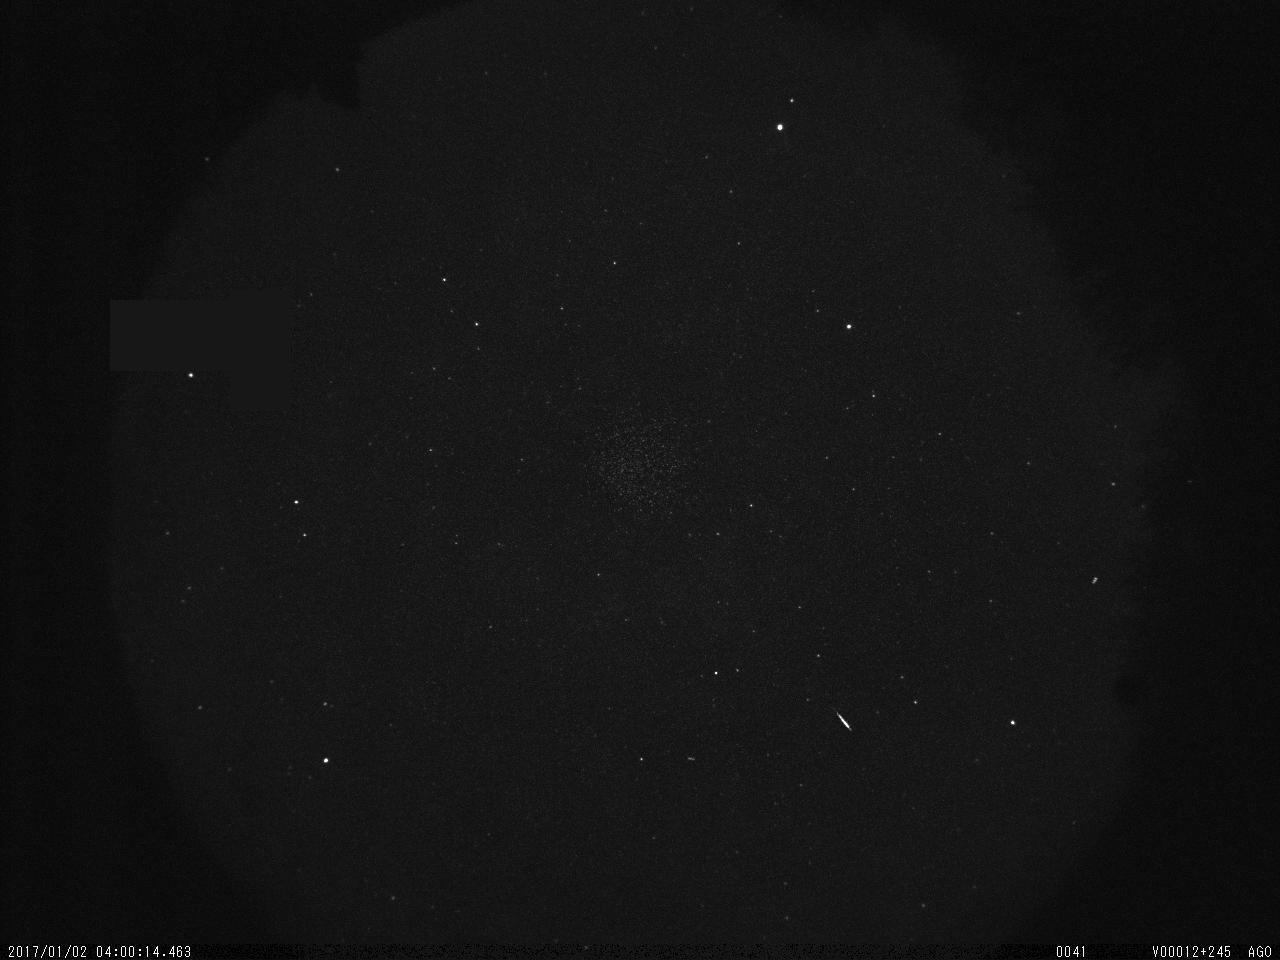Meteor: (831, 704, 860, 738)
